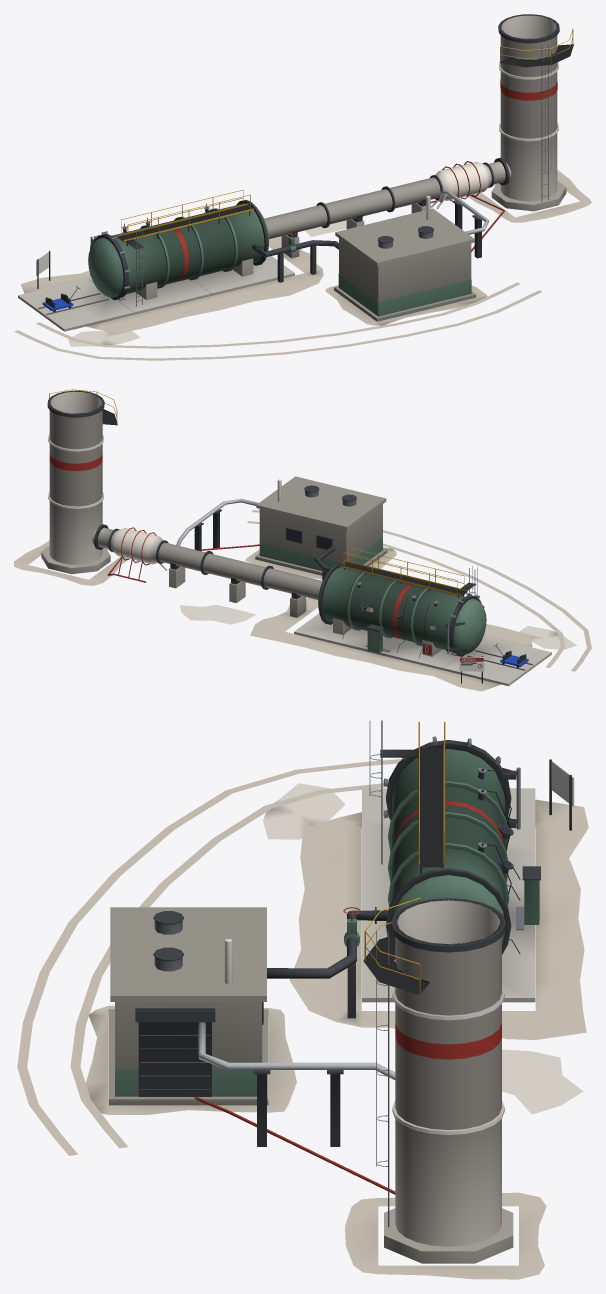
File: chamber.glb
3 views of the same model, one above another, from view 1: azimuth 30°, elevation 25°; view 2: azimuth 150°, elevation 25°; view 3: azimuth 270°, elevation 25° (orthographic). The views are drawn at different scales.
Parts seen in each view (by area): view 1: chamber; view 2: chamber; view 3: chamber.
Part boxes in pixels (<box>): chamber: <box>14,14,591,360</box>; chamber: <box>14,389,591,691</box>; chamber: <box>17,720,588,1279</box>.
Size of the model in its own units: 37.02 by 10.48 by 17.16.
